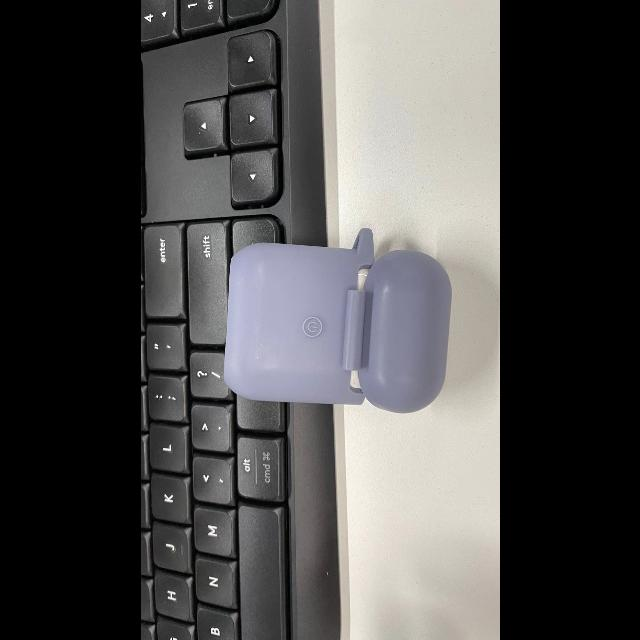airpods: (220, 228, 450, 411)
